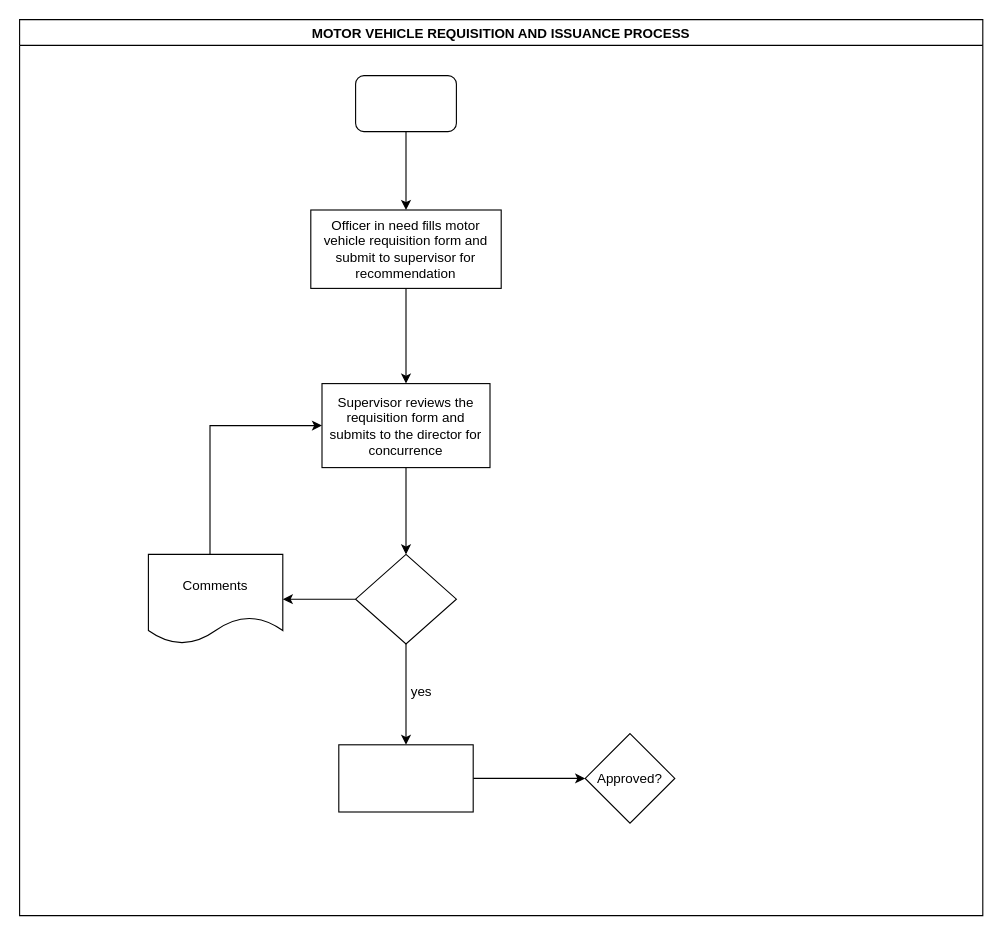
The diagram is 1002 pixels wide and 935 high, and some of its shapes have lost their labels. The shapes that lost their labels are listed below. From the top down, each one's centre as x and y in pixels, then its label:
At pixel 405 103: "Start".
At pixel 405 598: "Director concurs?".
At pixel 405 778: "Transport officer receives transport requisition form".
